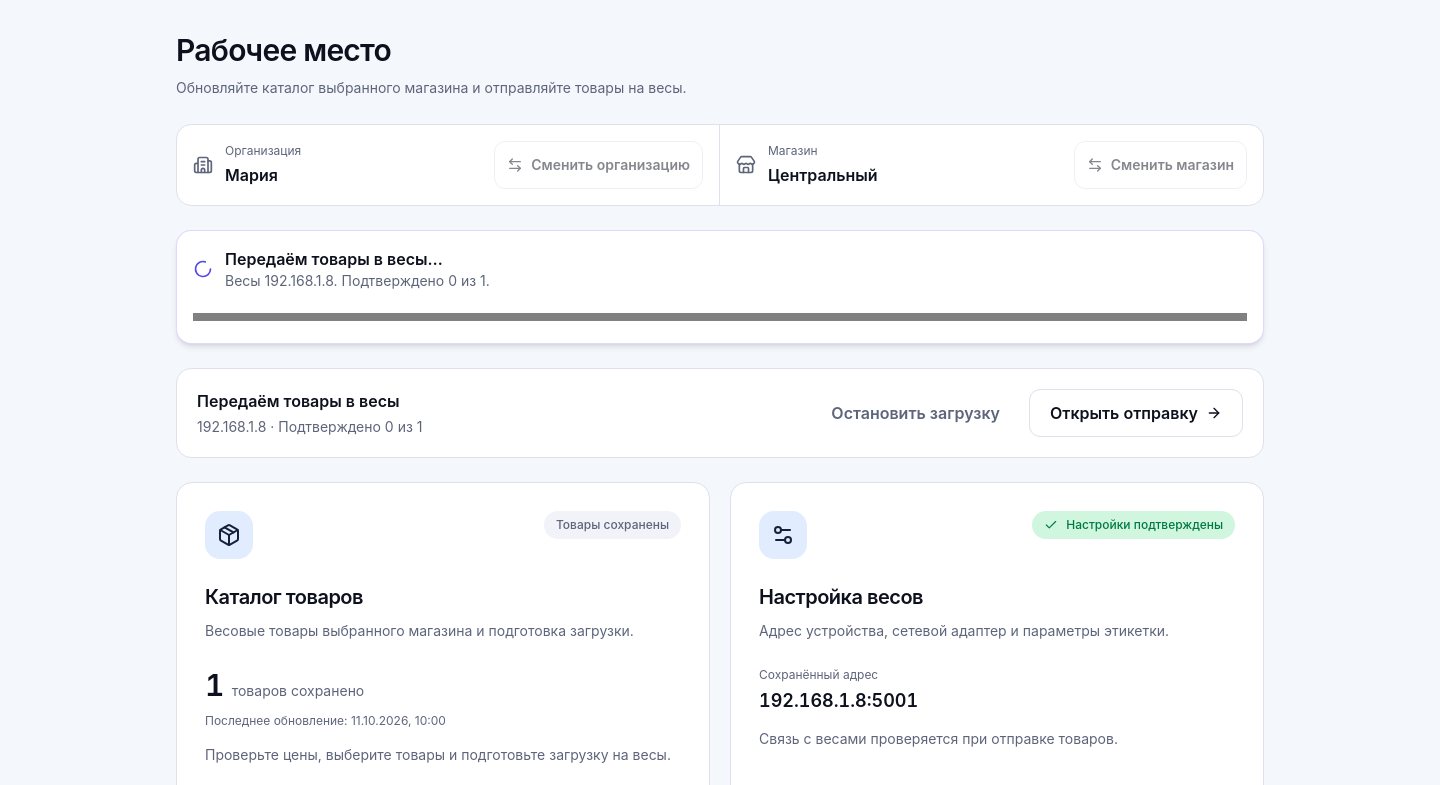
Test case: weighted catalog › allows navigation during upload while preventing a store or organization change
Expected: the button "Сменить магазин" is disabled, x1=1074 y1=141 x2=1247 y2=189
Expected: the button "Сменить организацию" is disabled, x1=494 y1=141 x2=703 y2=189
Click the button "Открыть отправку" at (1136,413), box x1=1029 y1=389 x2=1243 y2=437
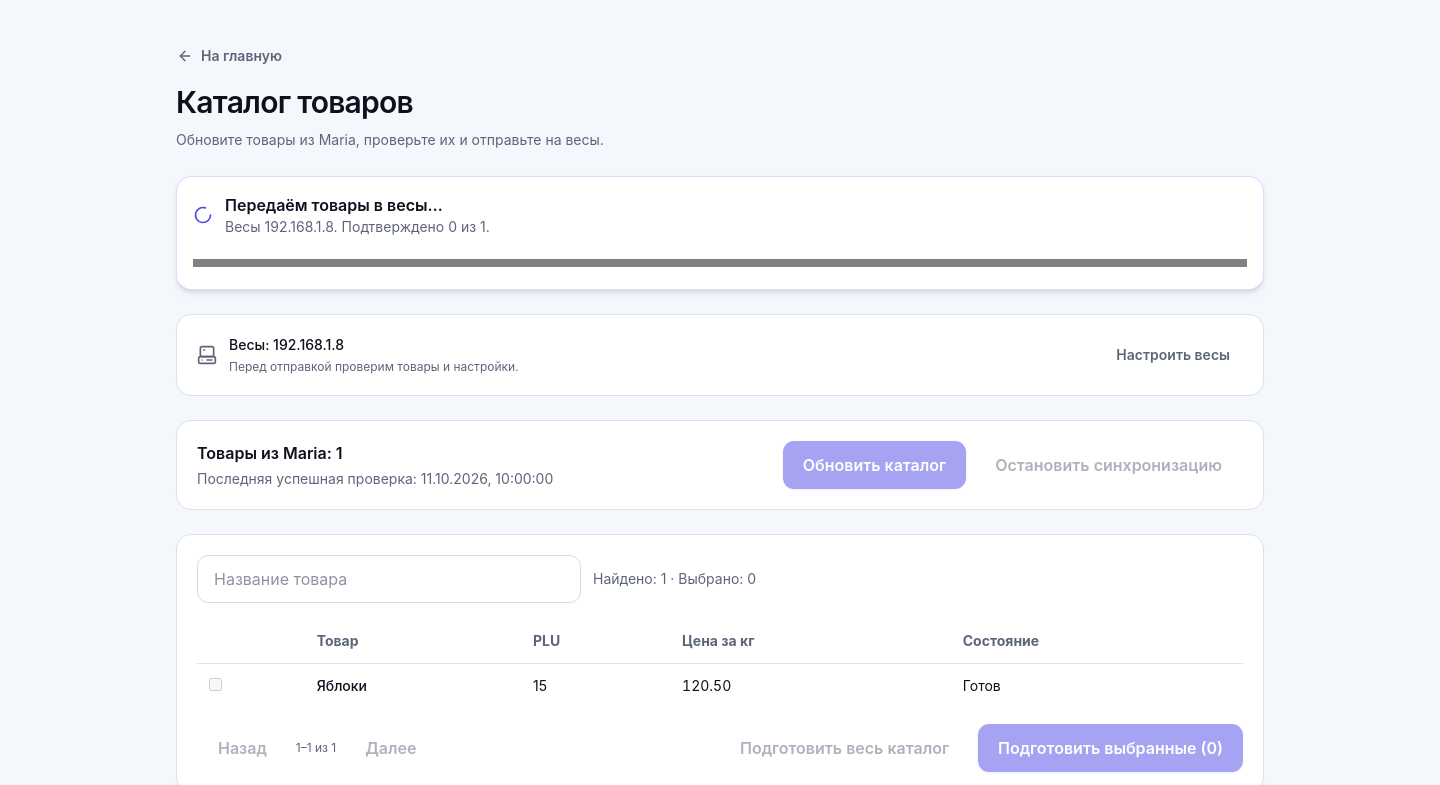
Now the button "Сменить магазин" is gone
Now the button "Сменить организацию" is gone
Click the button "На главную" at (230,56), box x1=164 y1=32 x2=295 y2=80
(page scrolled)
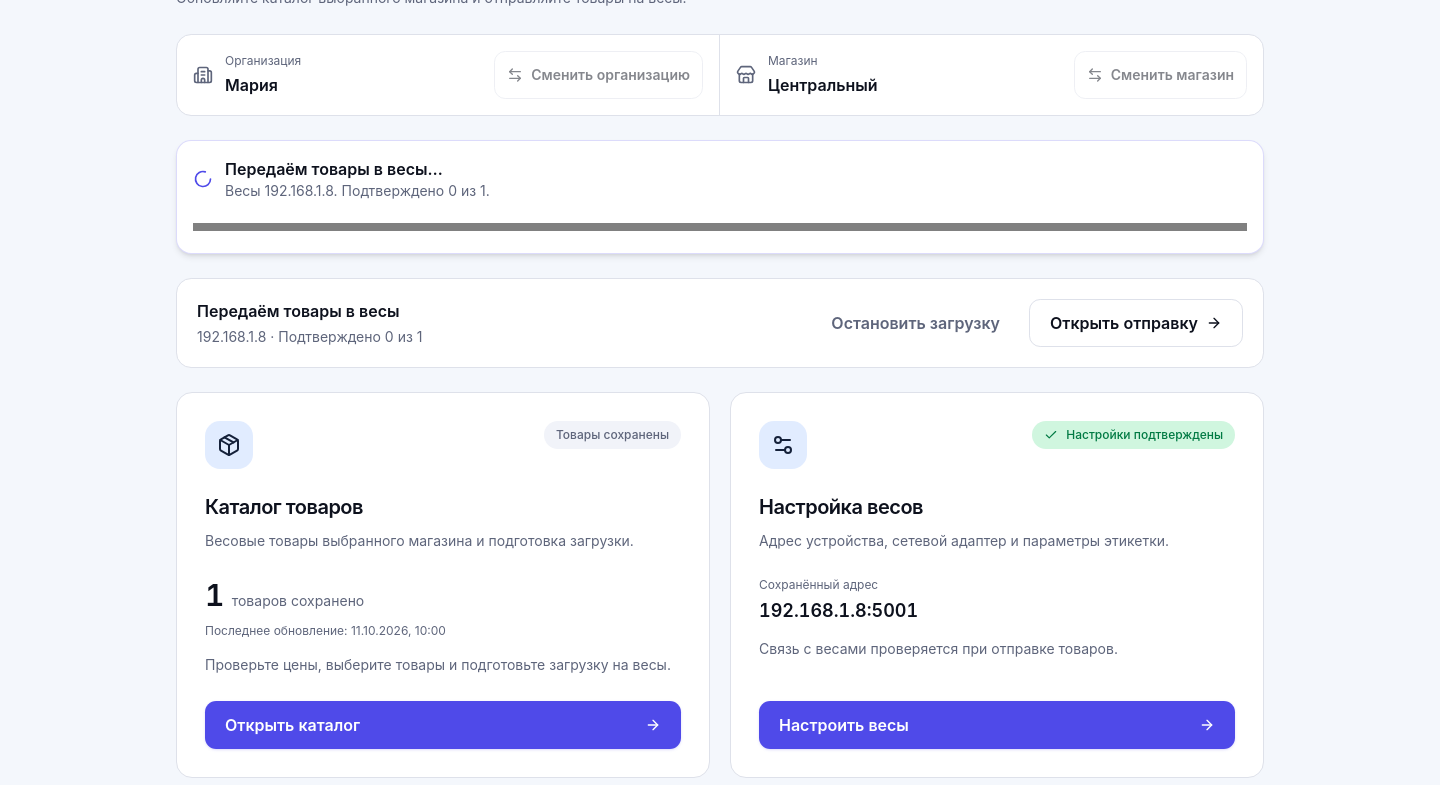
Now the button "Сменить магазин" is disabled, box x1=1074 y1=51 x2=1247 y2=99
Now the button "Сменить организацию" is disabled, box x1=494 y1=51 x2=703 y2=99
Click the button "Настроить весы" at (844,725), box x1=759 y1=701 x2=1235 y2=749
(page scrolled)
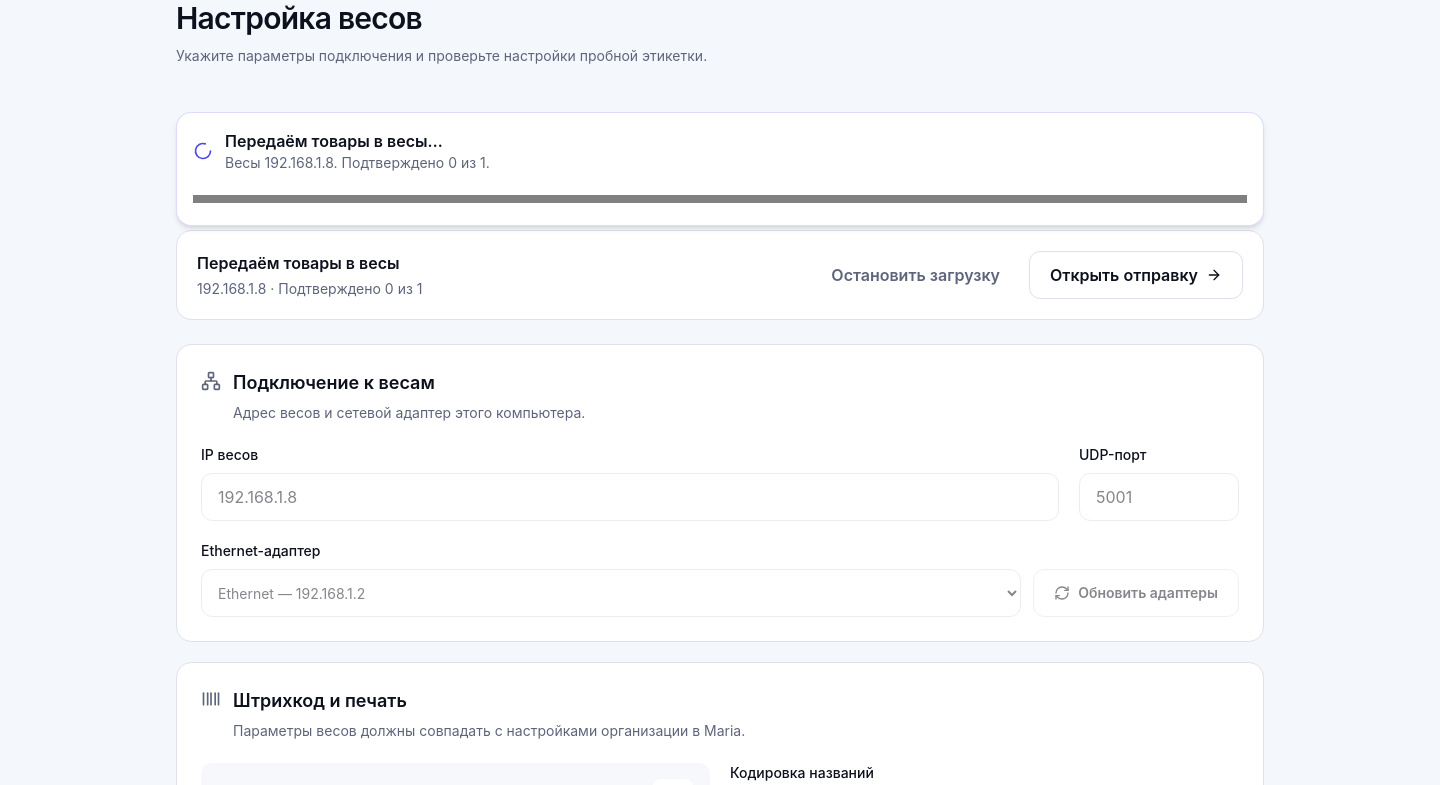
Now the field labelled "IP весов" is disabled, box x1=201 y1=473 x2=1059 y2=521
Now the button "Сменить магазин" is gone
Now the button "Сменить организацию" is gone
